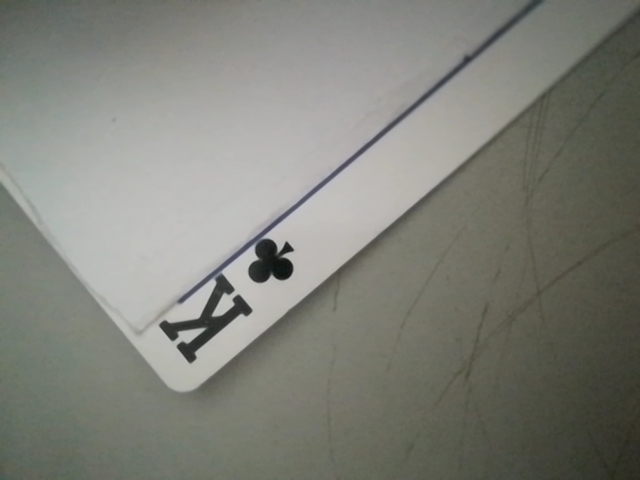mh k: (154, 231, 306, 378)
